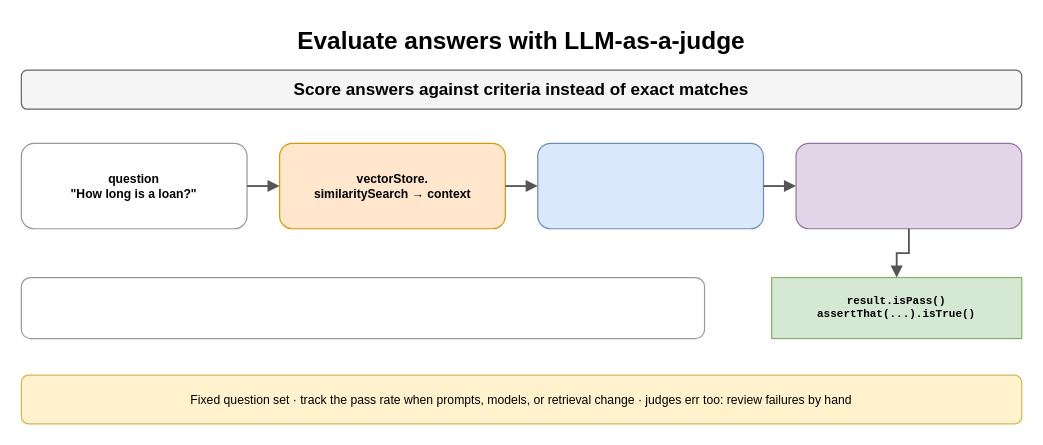
Image size: 1043x445. Some labels were removed from this diagram. Here are the shapes that lost their labels. From the top down, the box of each, then its label:
(537, 142, 763, 229): policyChat answer
(795, 142, 1022, 229): RelevancyEvaluator (judge model call)
(20, 276, 705, 339): FactCheckingEvaluator: is the answer supported by the context?
